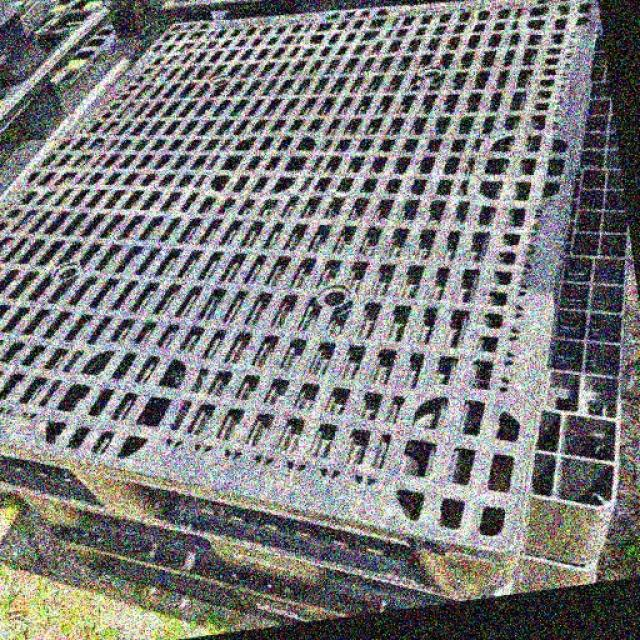non-igps: (0, 0, 640, 640), (0, 0, 170, 205)
